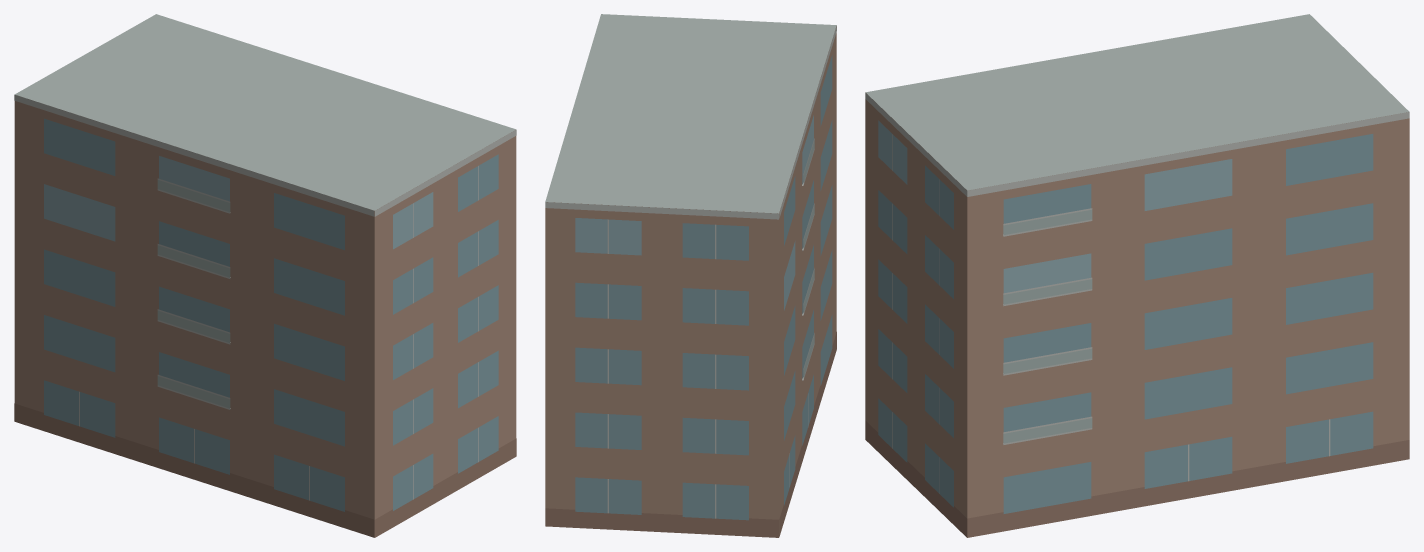
Rendered from survey-upis-32892533.glb.
3 renders of one model, left to right at view 1: azimuth 30°, elevation 25°; view 2: azimuth 150°, elevation 25°; view 3: azimuth 270°, elevation 25°, orthographic. The views are drawn at different scales.
Parts seen in each view (by area): view 1: survey-upis-32892533.tmp; view 2: survey-upis-32892533.tmp; view 3: survey-upis-32892533.tmp.
Boxes of the visible parts, x1,y1,x2,y2 form: survey-upis-32892533.tmp: (14, 14, 516, 537); survey-upis-32892533.tmp: (545, 14, 836, 537); survey-upis-32892533.tmp: (865, 14, 1409, 537).
Bounding box in the file's own units: 14.18 × 13 × 18.47.
